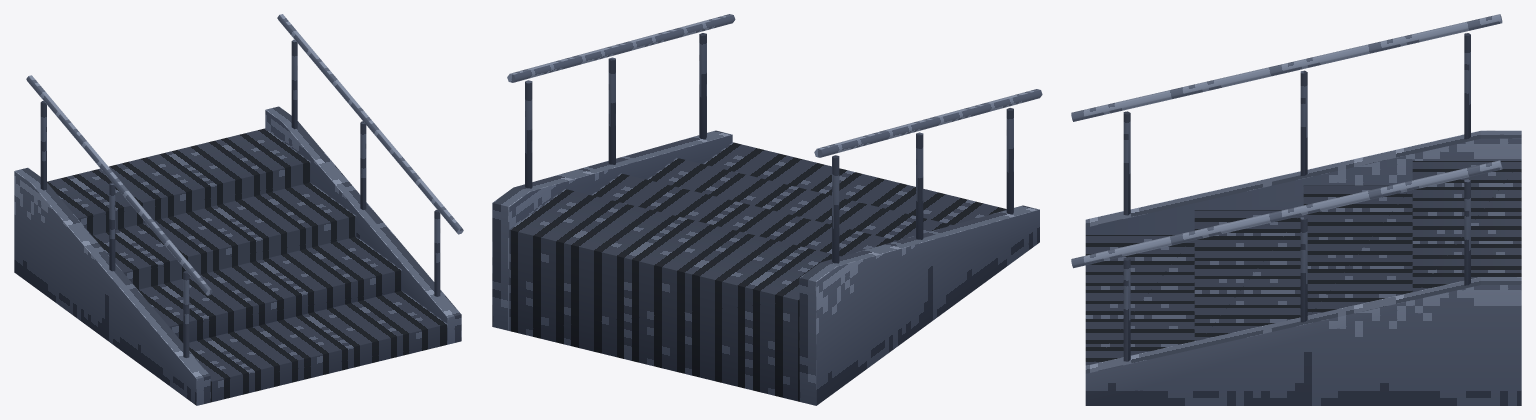
Rendered from stn.stairs.glb.
3 views of the same model, side by side, from view 1: azimuth 30°, elevation 25°; view 2: azimuth 150°, elevation 25°; view 3: azimuth 270°, elevation 25° (orthographic). The views are drawn at different scales.
Visible parts, largest first — view 1: kit_flight, kit_stringers, kit_rails, kit_posts; view 2: kit_flight, kit_stringers, kit_posts, kit_rails; view 3: kit_stringers, kit_flight, kit_rails, kit_posts.
Boxes of the visible parts, box(x1,y1,x2,y2) form: kit_flight: box(47, 128, 447, 402); kit_stringers: box(14, 106, 461, 405); kit_rails: box(26, 14, 463, 295); kit_posts: box(40, 39, 440, 357); kit_flight: box(509, 142, 1006, 401); kit_stringers: box(492, 130, 1039, 405); kit_posts: box(525, 33, 1013, 263); kit_rails: box(507, 14, 1042, 157); kit_stringers: box(1085, 130, 1521, 405); kit_flight: box(1085, 161, 1521, 365); kit_rails: box(1071, 14, 1502, 268); kit_posts: box(1123, 33, 1470, 361).
Bounding box in the file's own units: 2.68 × 1.95 × 3.31.
Materials: 4 (4 with a texture image).
